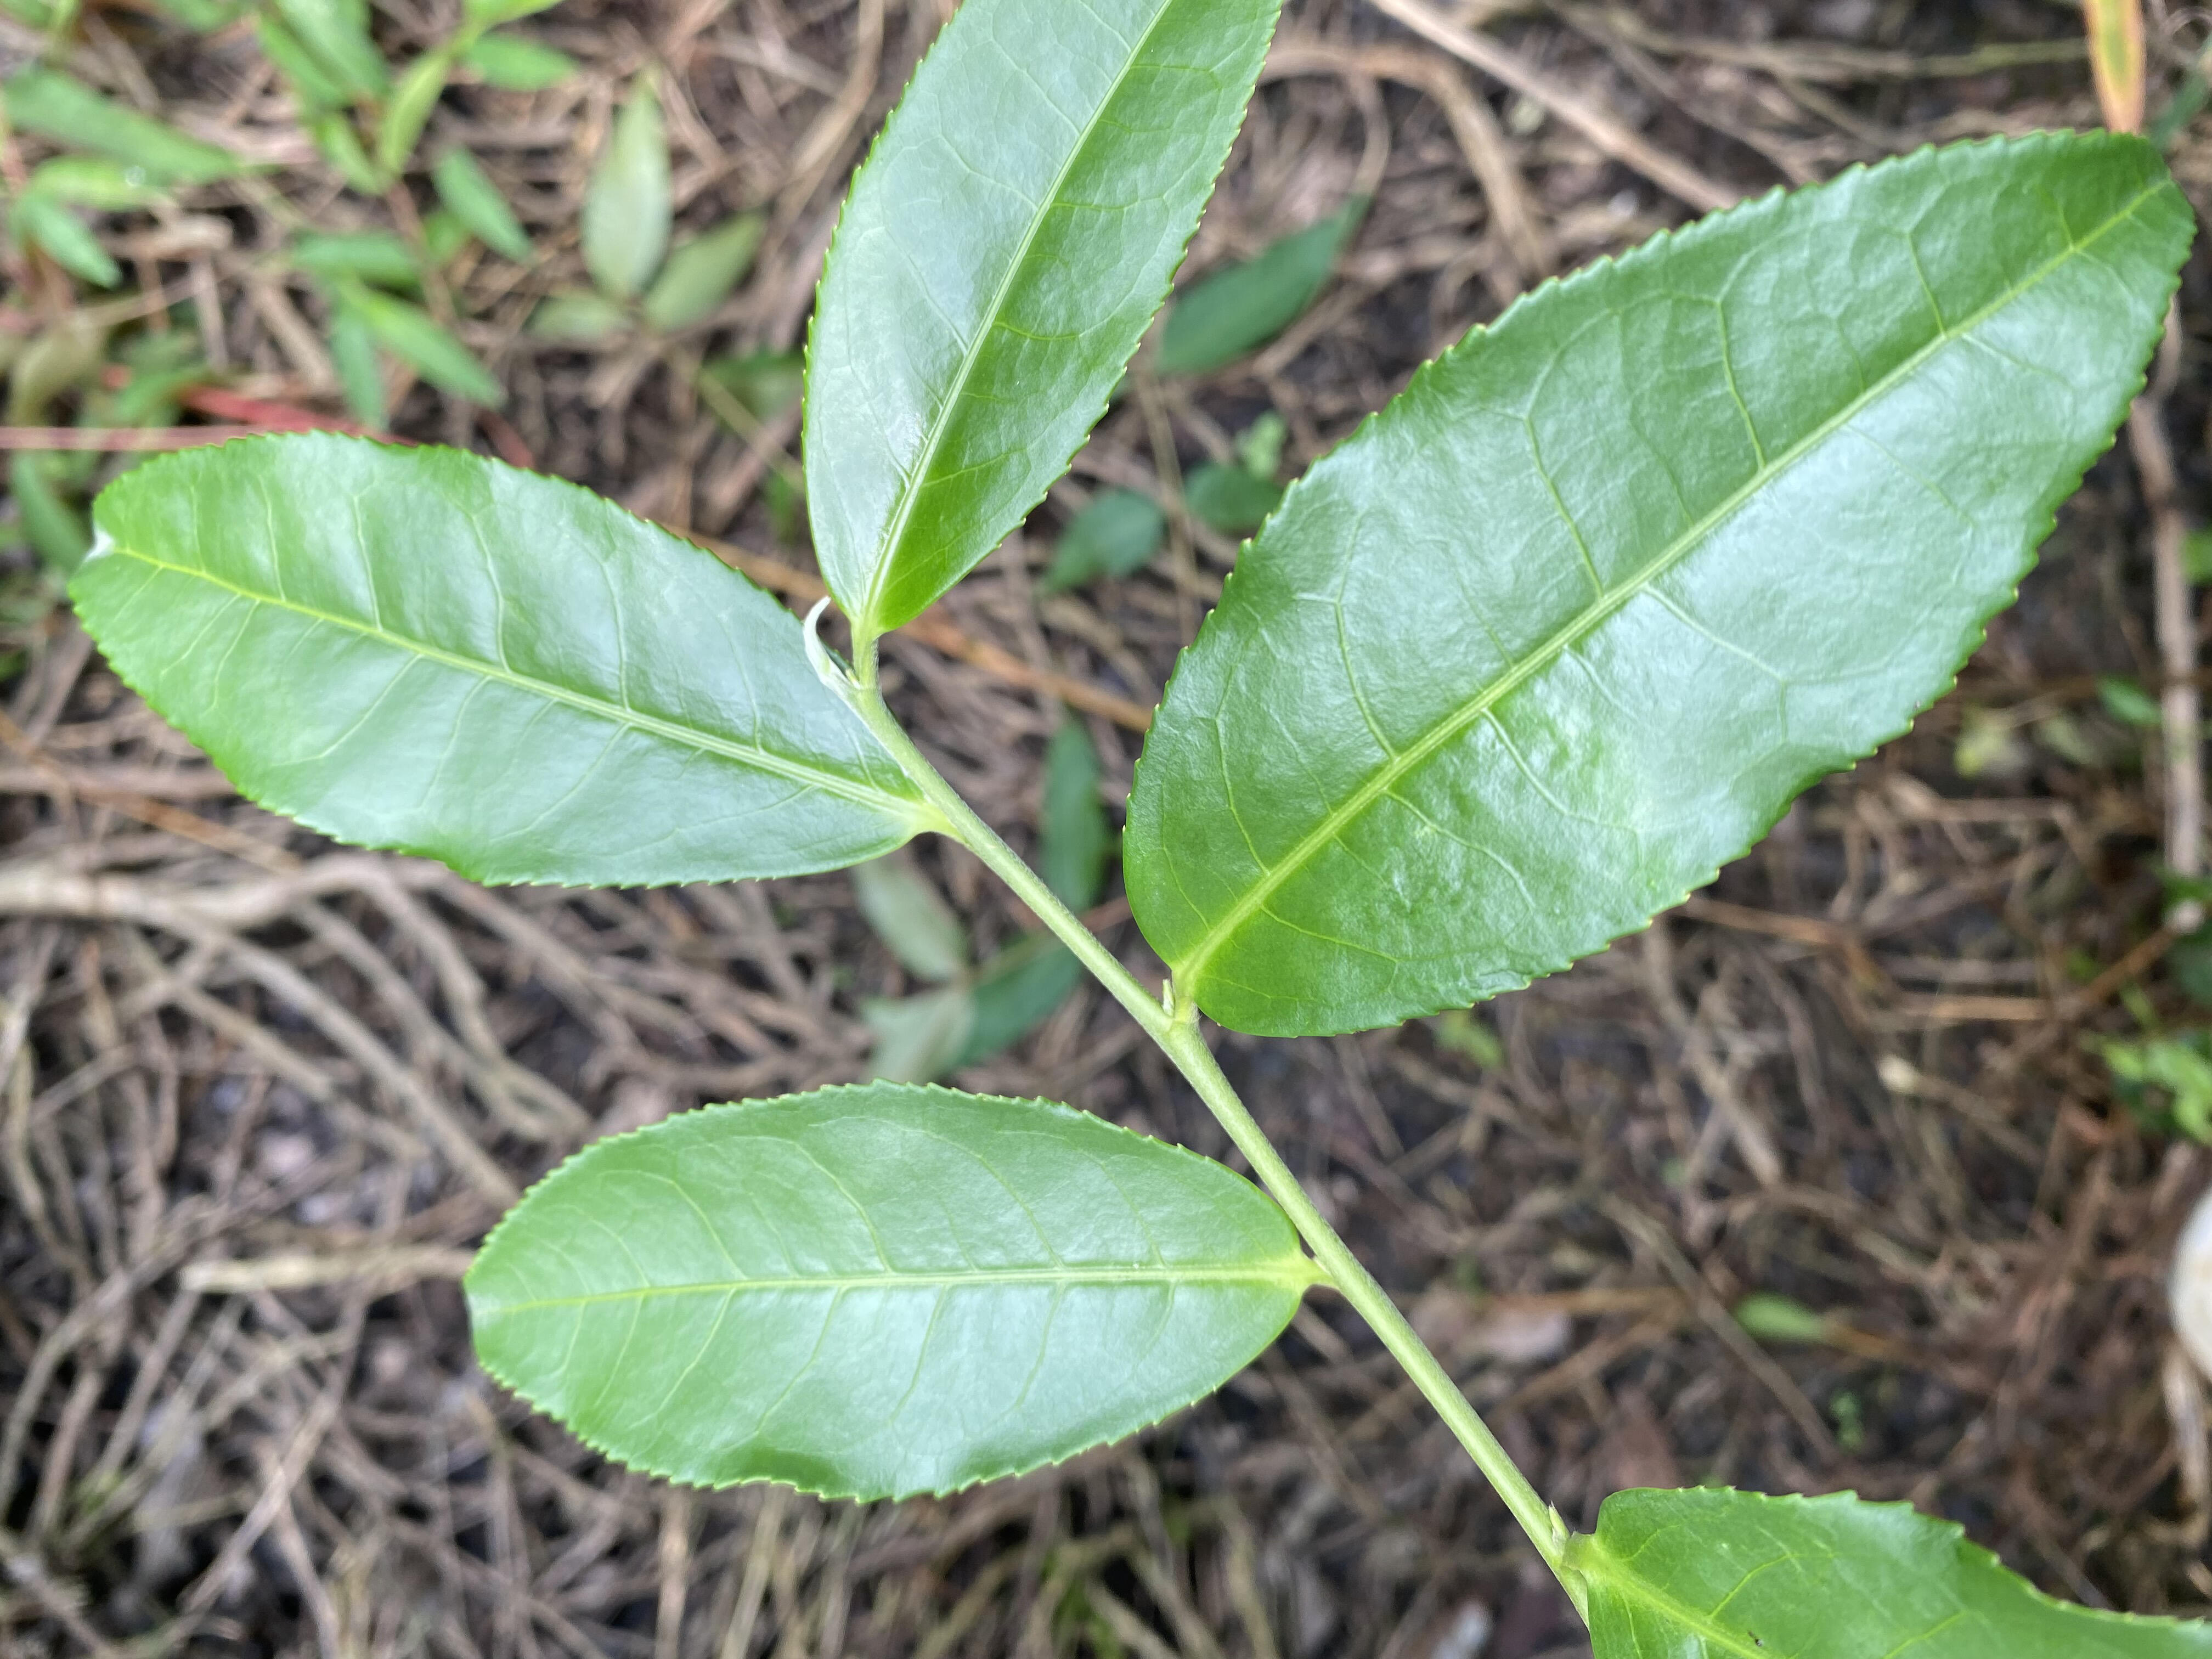healthy: (1120, 124, 2198, 1047), (64, 425, 918, 894), (460, 1080, 1313, 1509), (796, 3, 1282, 640)
